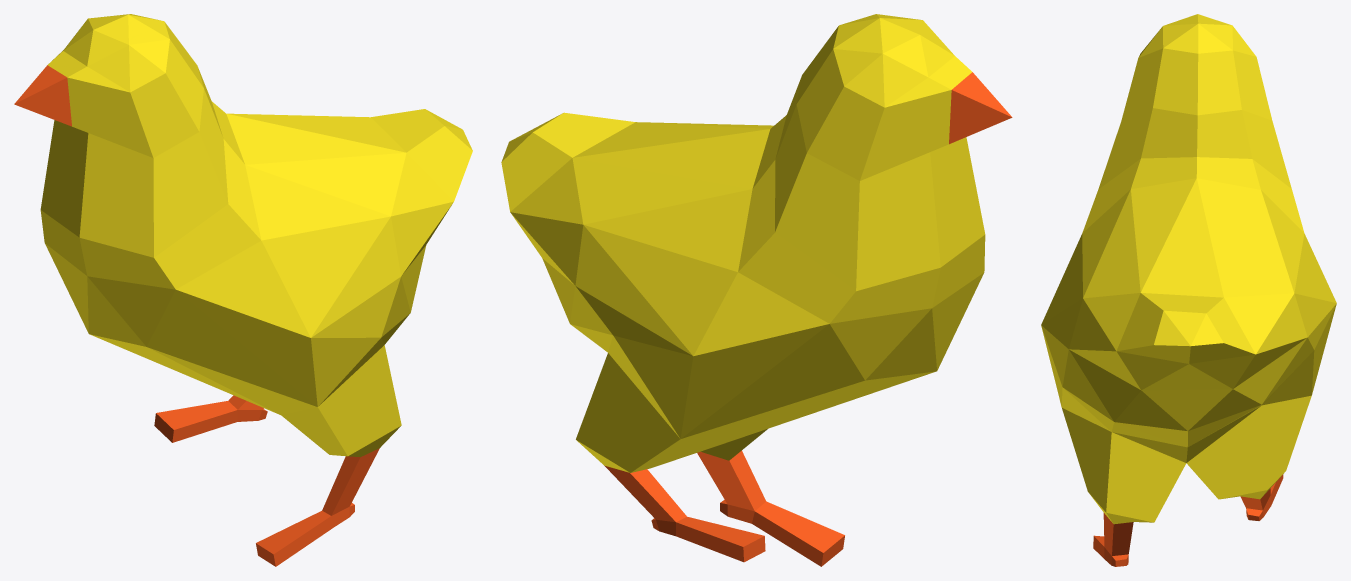
The model's file is chickWalking3.obj.
3 views of the same model, side by side, from view 1: azimuth 30°, elevation 25°; view 2: azimuth 150°, elevation 25°; view 3: azimuth 270°, elevation 25° (orthographic). The views are drawn at different scales.
Parts seen in each view (by area): view 1: Icosphere.001_Icosphere.002; view 2: Icosphere.001_Icosphere.002; view 3: Icosphere.001_Icosphere.002.
Boxes of the visible parts, <box> form: Icosphere.001_Icosphere.002: <box>14,14,472,566</box>; Icosphere.001_Icosphere.002: <box>501,14,1012,566</box>; Icosphere.001_Icosphere.002: <box>1041,14,1336,566</box>.
Size of the model in its own units: 11.96 by 13.69 by 7.54.
